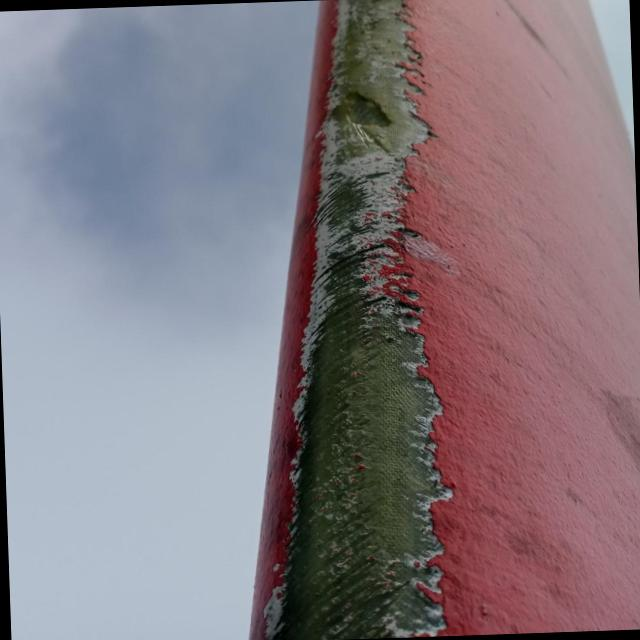corrosion: (284, 0, 433, 359), (271, 359, 454, 636)
